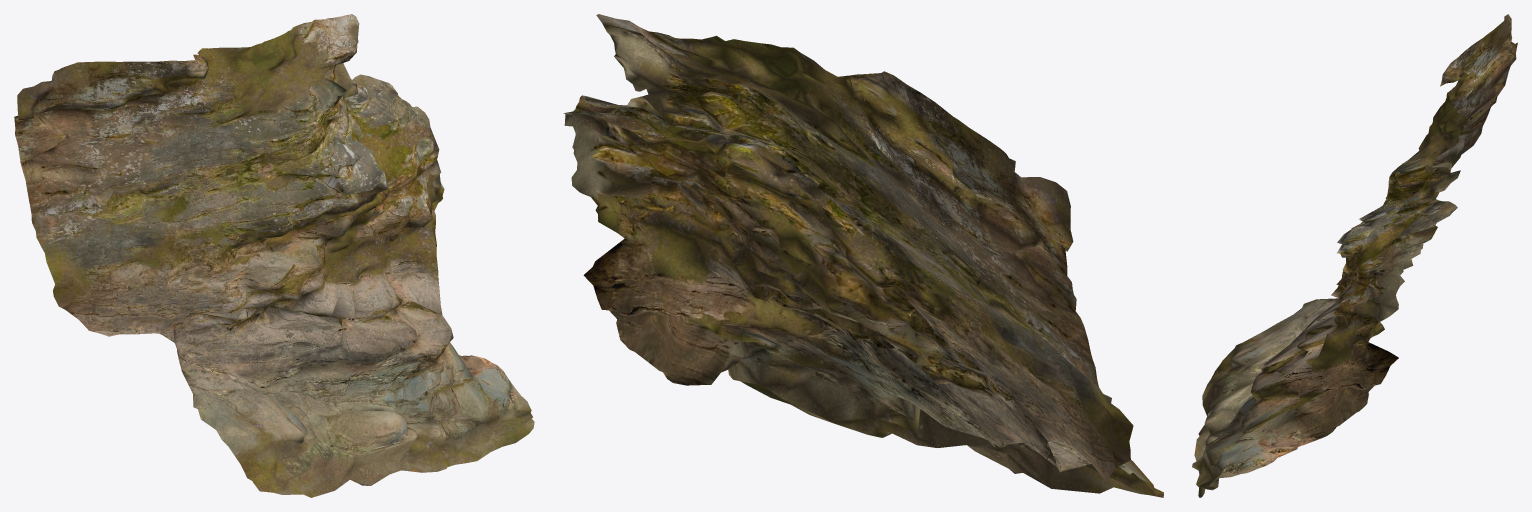
Rendered from roca_pared_02.glb.
3 renders of one model, left to right at view 1: azimuth 30°, elevation 25°; view 2: azimuth 150°, elevation 25°; view 3: azimuth 270°, elevation 25°, orthographic. The views are drawn at different scales.
Visible parts, largest first — view 1: roca_pared_02; view 2: roca_pared_02; view 3: roca_pared_02.
Boxes of the visible parts, bbox=[...] form: roca_pared_02: bbox=[14, 14, 534, 497]; roca_pared_02: bbox=[563, 14, 1163, 497]; roca_pared_02: bbox=[1192, 14, 1517, 497].
Bounding box in the file's own units: 4.4 × 4.03 × 3.45.
Materials: 1 (1 with a texture image).
